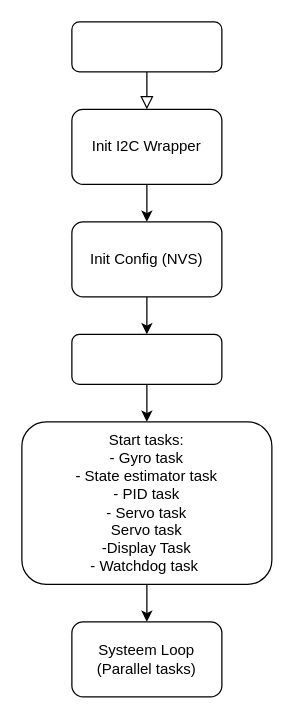
Image size: 294x719. Some labels were removed from this diagram. Each missing label, with the centre of its shape:
Init Watchdog: (146,358)
Start: (146,46)
